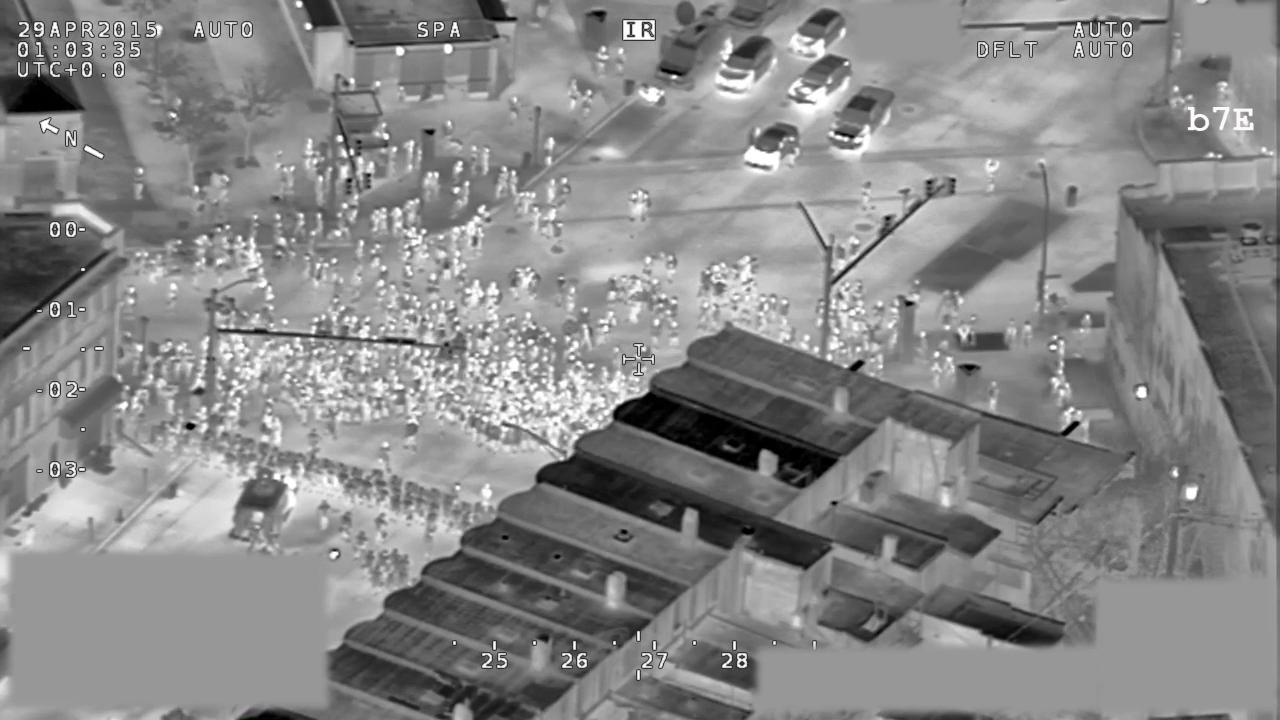vehicle: (647, 1, 726, 96), (221, 461, 295, 550), (827, 82, 895, 157), (707, 33, 777, 101), (783, 53, 859, 111), (740, 122, 804, 175), (790, 6, 849, 61)
